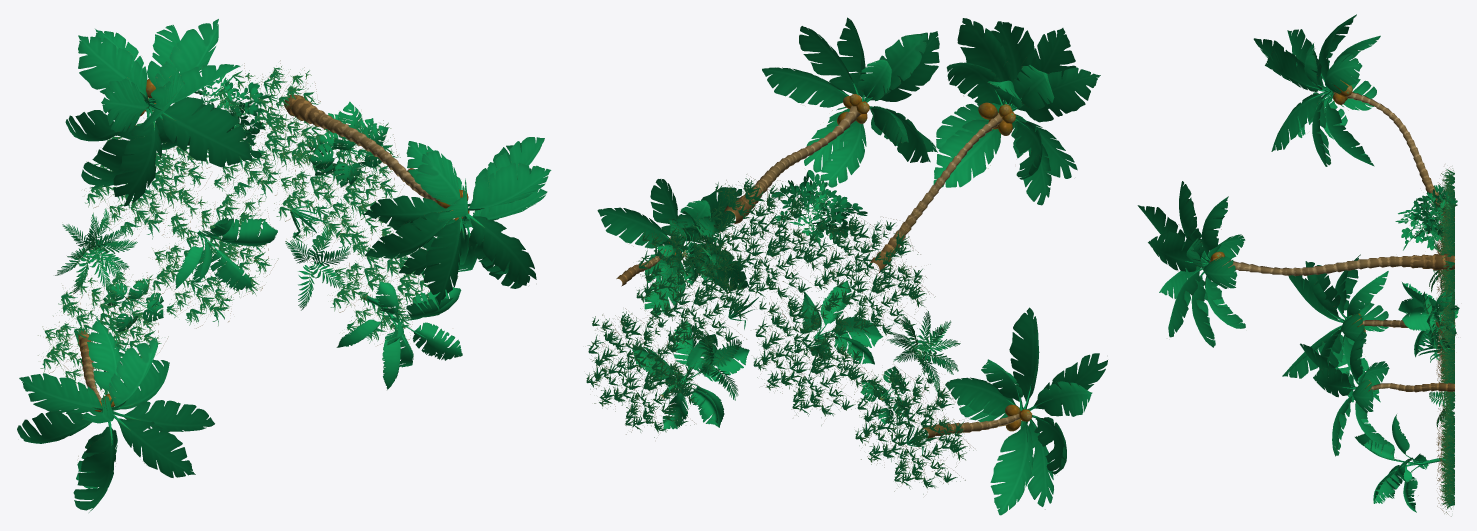
Rendered from Thảm thực vật.glb.
The picture shows the model from 3 angles, left to right: view 1: azimuth 30°, elevation 25°; view 2: azimuth 150°, elevation 25°; view 3: azimuth 270°, elevation 25°; orthographic projection. The views are drawn at different scales.
Visible parts, largest first — view 1: Tree_2, Tree_1, Tree_0; view 2: Tree_2, Tree_1, Tree_0; view 3: Tree_2, Tree_0, Tree_1.
Boxes of the visible parts, x1,y1,x2,y2 form: Tree_2: [17, 19, 551, 512]; Tree_1: [55, 101, 462, 389]; Tree_0: [77, 79, 486, 445]; Tree_2: [586, 17, 1107, 515]; Tree_1: [632, 210, 960, 429]; Tree_0: [616, 82, 1052, 441]; Tree_2: [1137, 14, 1457, 516]; Tree_0: [1185, 73, 1455, 484]; Tree_1: [1355, 234, 1459, 512].
Bounding box in the file's own units: 12.92 × 11.44 × 8.68.
Materials: 3 (3 with a texture image).
